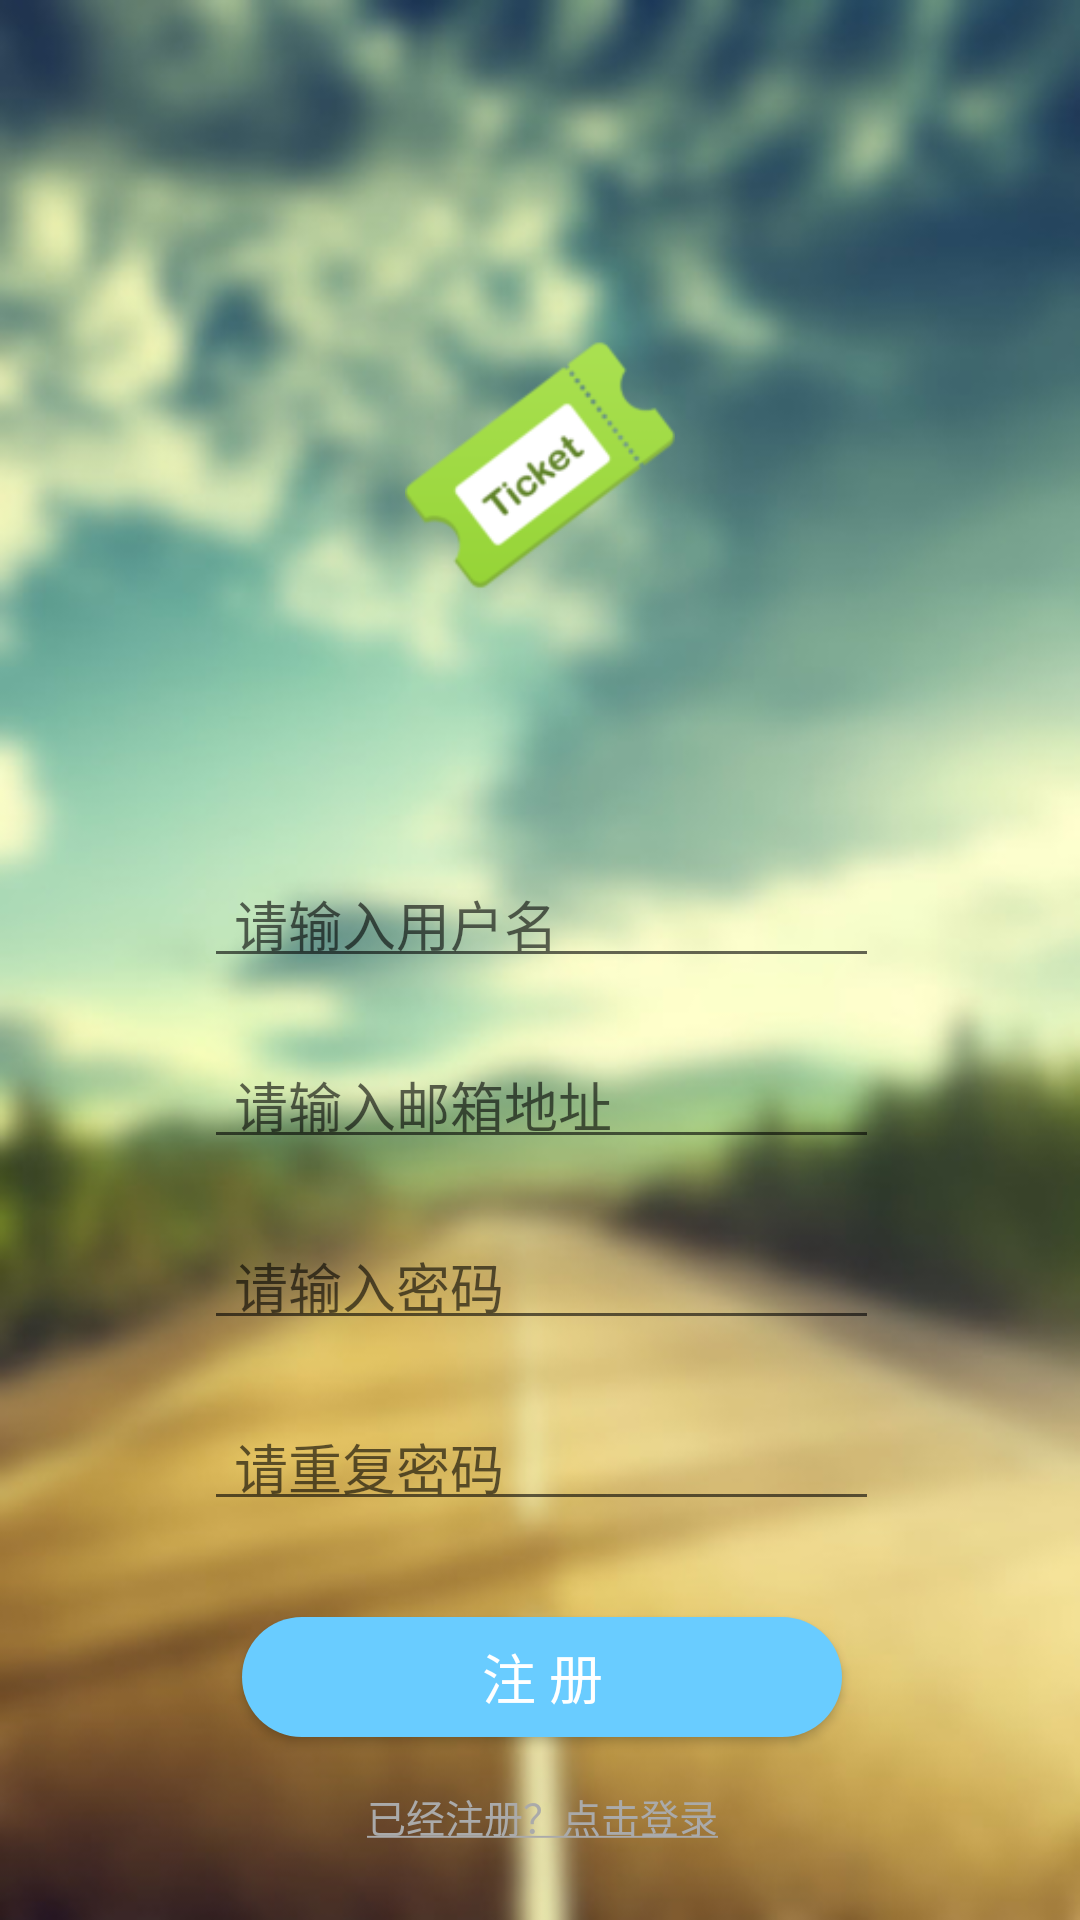

Screen size 1080px x 1920px. Icon name, then its center in pixels as point (x, y):
appicon: point (540, 465)
